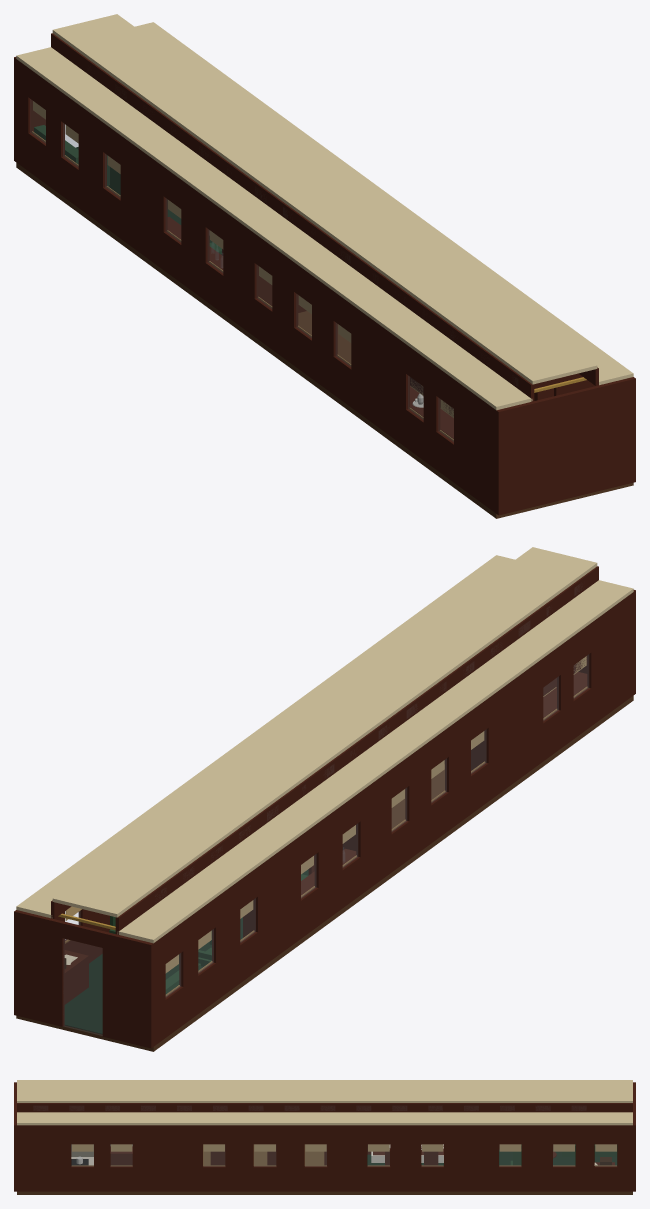
Rendered from private_car.glb.
3 views of the same model, one above another, from view 1: azimuth 30°, elevation 25°; view 2: azimuth 150°, elevation 25°; view 3: azimuth 270°, elevation 25° (orthographic). The views are drawn at different scales.
Parts seen in each view (by area): view 1: CarShell-col, Rooms-col, Galley-col, Furniture; view 2: CarShell-col, Rooms-col, Furniture, Galley-col; view 3: CarShell-col, Rooms-col, Furniture, Galley-col, Dining-col.
Part boxes in pixels (x1=…): CarShell-col: x1=14, y1=14, x2=635, y2=518; Rooms-col: x1=75, y1=147, x2=595, y2=396; Galley-col: x1=410, y1=377, x2=553, y2=439; Furniture: x1=34, y1=125, x2=223, y2=255; CarShell-col: x1=14, y1=547, x2=635, y2=1051; Rooms-col: x1=64, y1=664, x2=587, y2=1034; Furniture: x1=64, y1=855, x2=314, y2=1004; Galley-col: x1=543, y1=656, x2=587, y2=717; CarShell-col: x1=14, y1=1080, x2=635, y2=1194; Rooms-col: x1=71, y1=1144, x2=617, y2=1165; Furniture: x1=385, y1=1144, x2=617, y2=1165; Galley-col: x1=71, y1=1144, x2=132, y2=1165; Dining-col: x1=367, y1=1144, x2=443, y2=1165.
Size of the model in its own units: 3.4 by 3.05 by 20.8.
